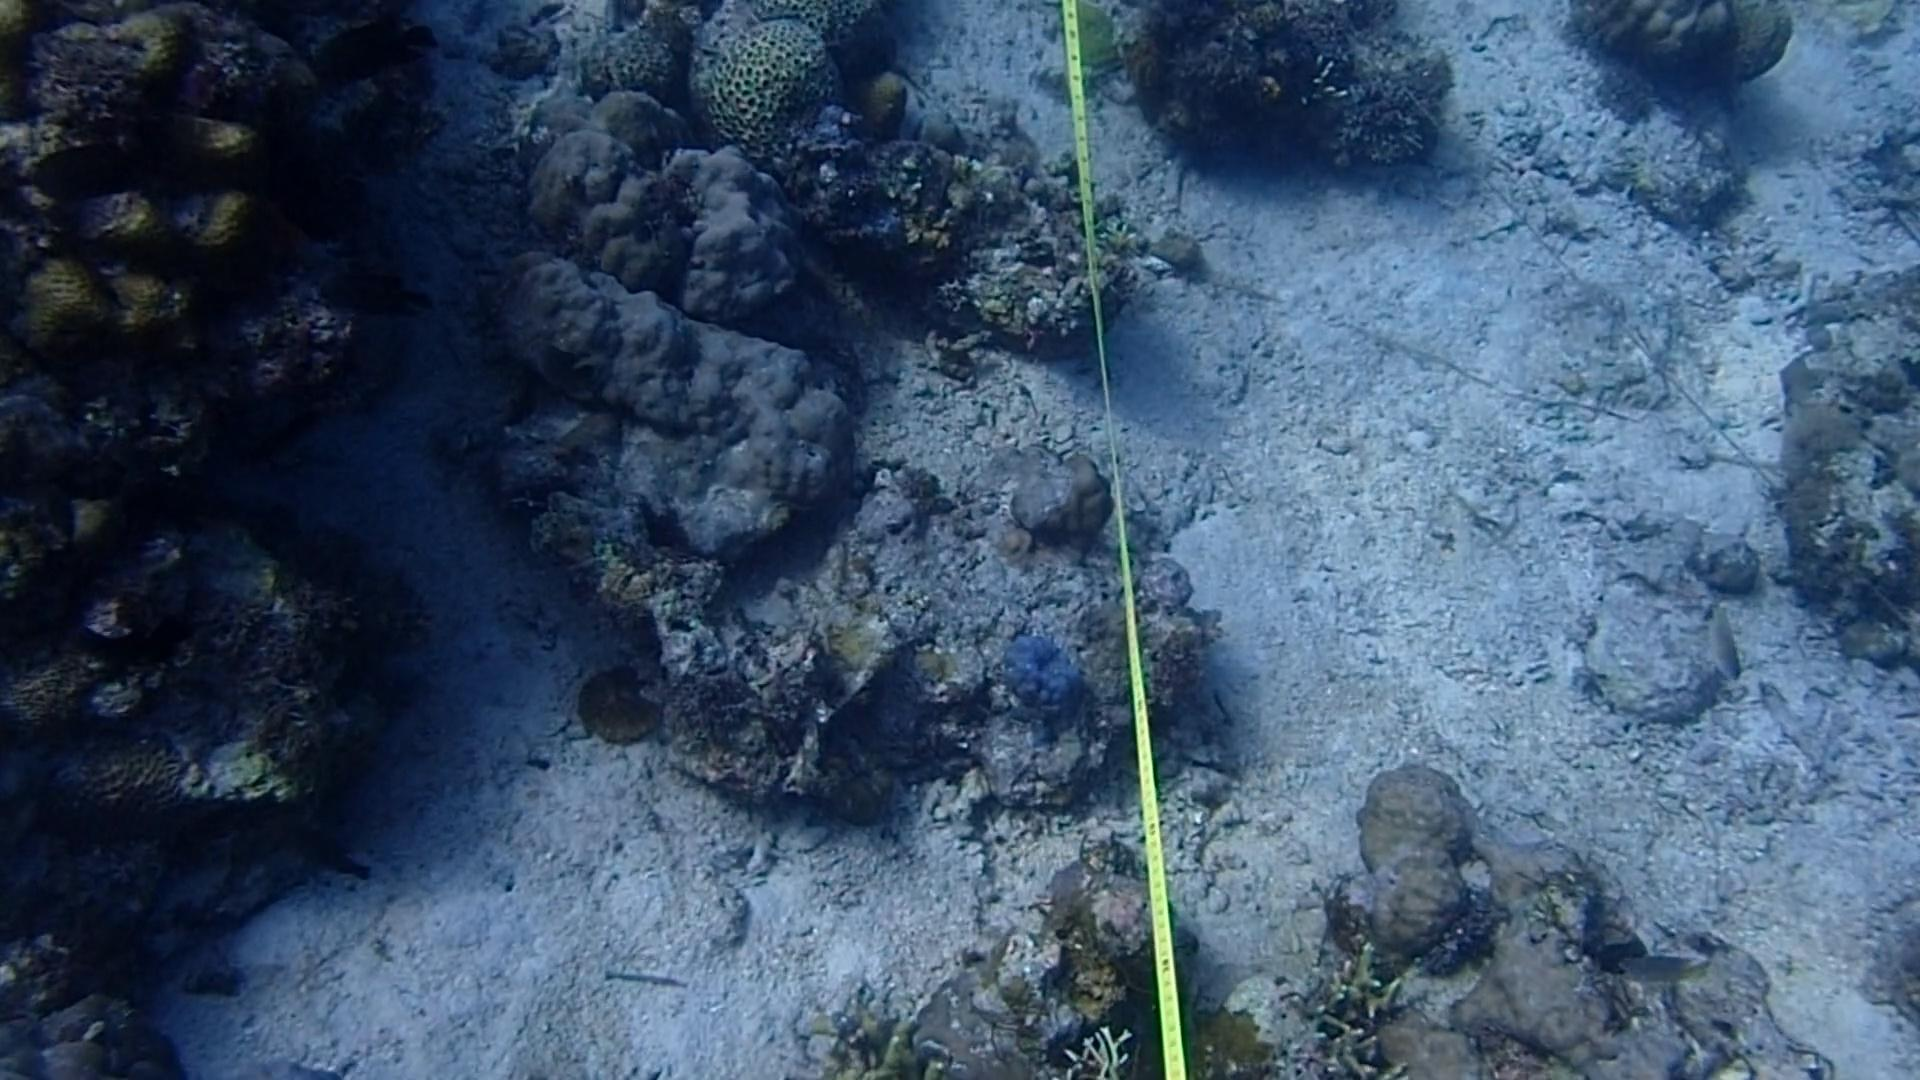Dark Fish: (28, 136, 179, 225), (245, 806, 381, 905), (303, 13, 456, 95), (63, 597, 202, 675), (306, 268, 447, 335), (524, 331, 618, 414)
Light Fish: (1691, 596, 1754, 686)
